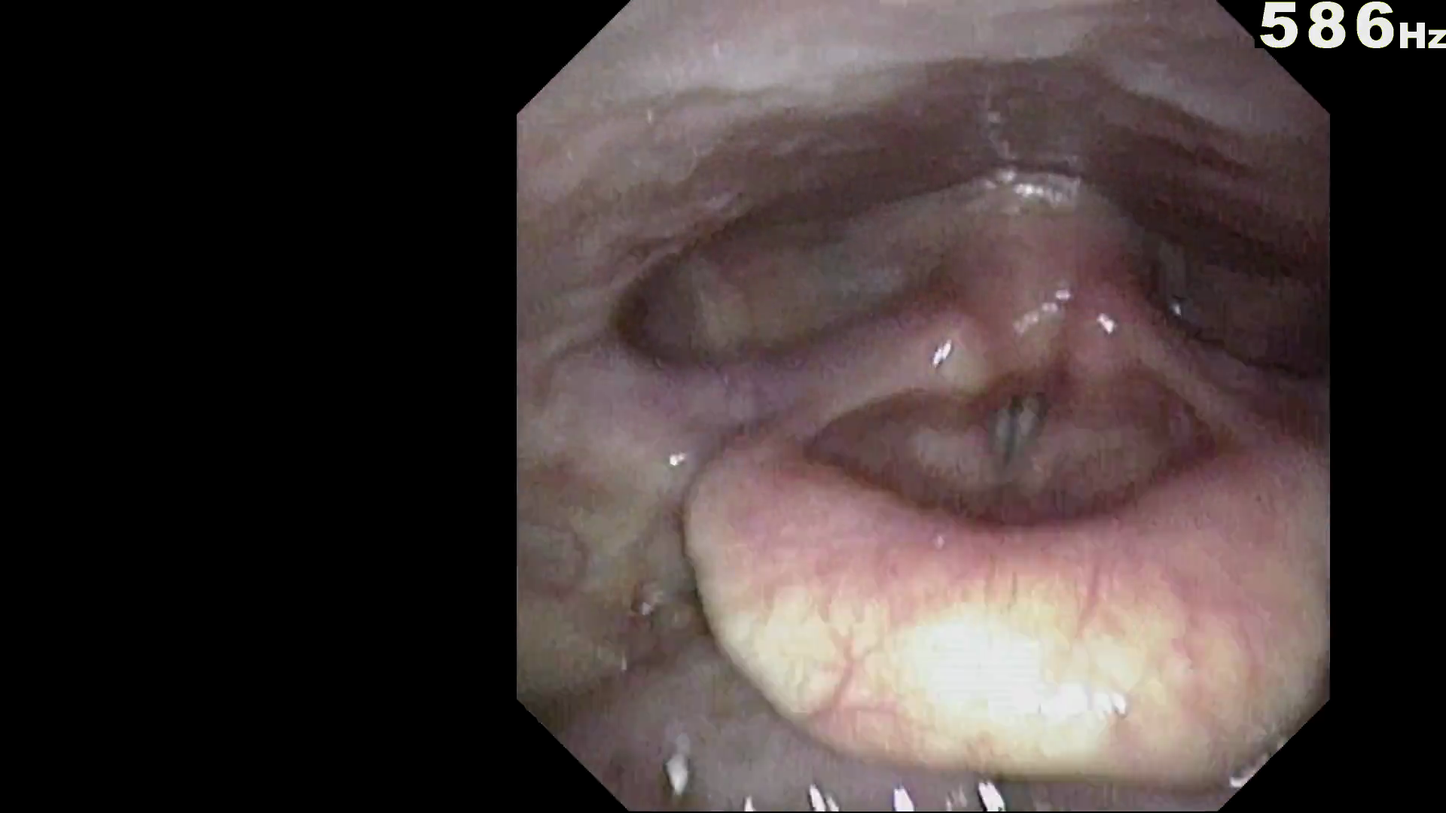epiglottis: (718, 391, 1276, 609)
trachea: (971, 360, 1067, 490)
